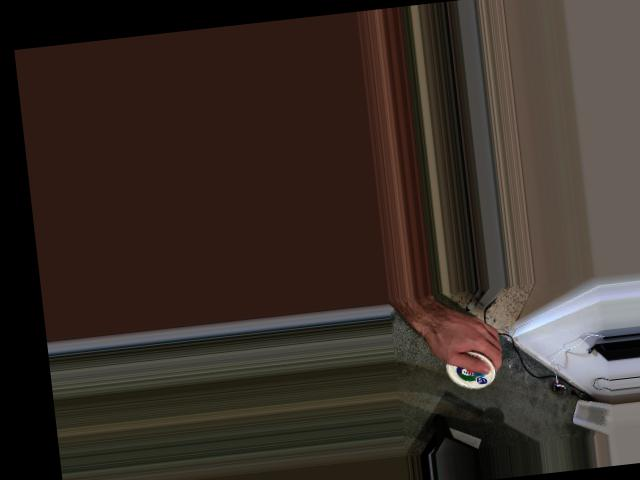cotage: (444, 344, 497, 392)
